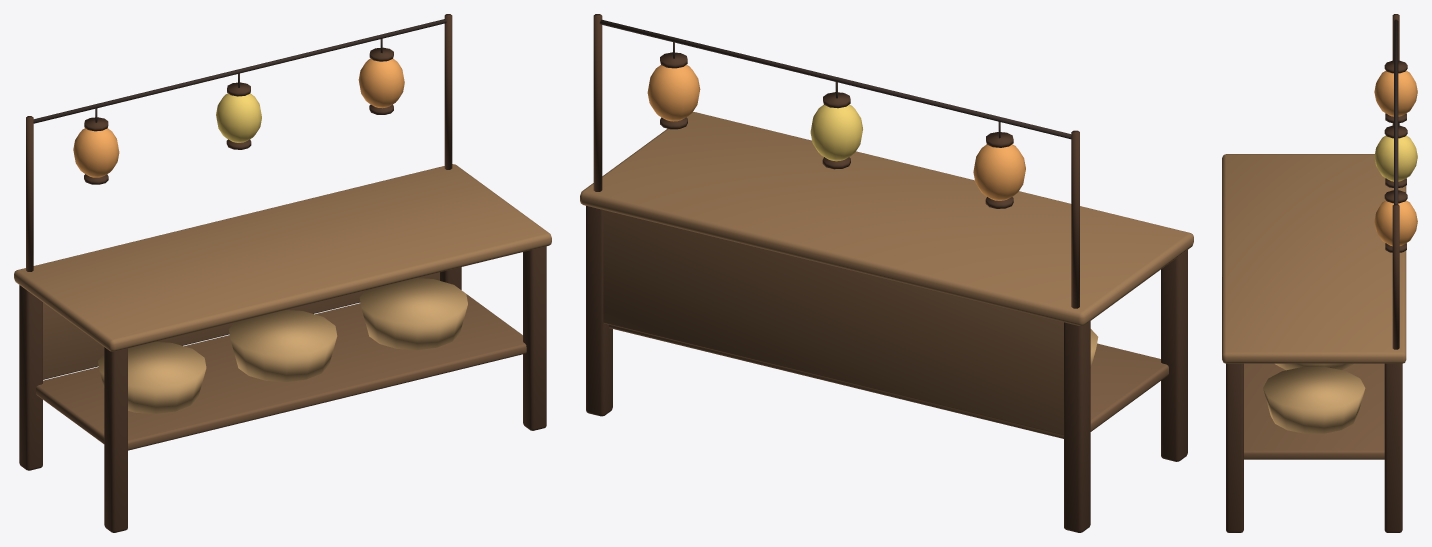
The model's file is lantern-shelf.glb.
3 views of the same model, side by side, from view 1: azimuth 30°, elevation 25°; view 2: azimuth 150°, elevation 25°; view 3: azimuth 270°, elevation 25° (orthographic). The views are drawn at different scales.
Visible parts, largest first — view 1: shelf, lanterns; view 2: shelf, lanterns; view 3: shelf, lanterns.
Part boxes in pixels (x1,y1,x2,y2): shelf: [14, 164, 551, 532]; lanterns: [26, 14, 452, 271]; shelf: [580, 112, 1193, 532]; lanterns: [593, 14, 1079, 308]; shelf: [1222, 154, 1406, 532]; lanterns: [1374, 14, 1417, 349].
Size of the model in its own units: 1.86 by 1.4 by 0.765.
